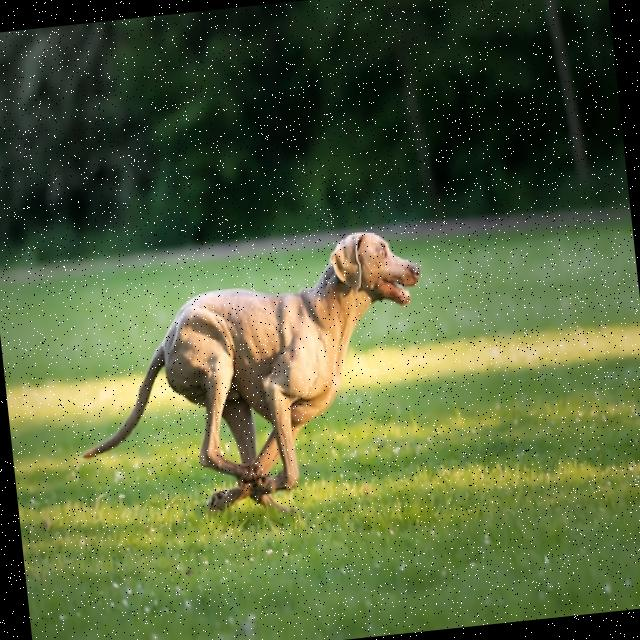Dog: (63, 226, 441, 523)
